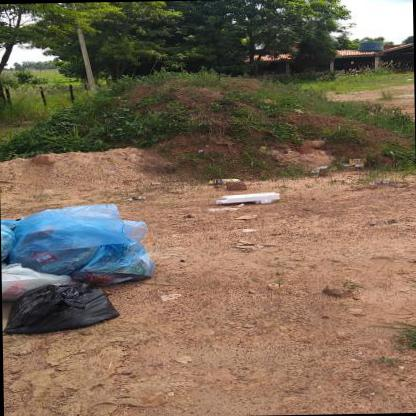lixo: (7, 204, 141, 328)
